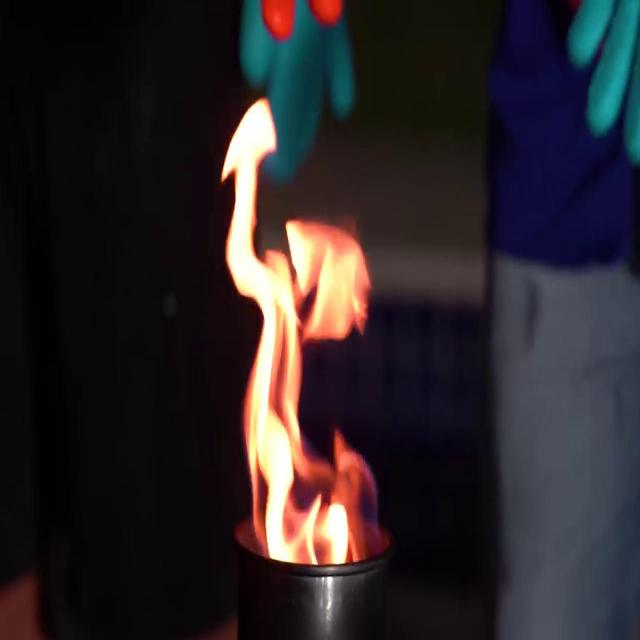fire: (217, 95, 386, 578)
